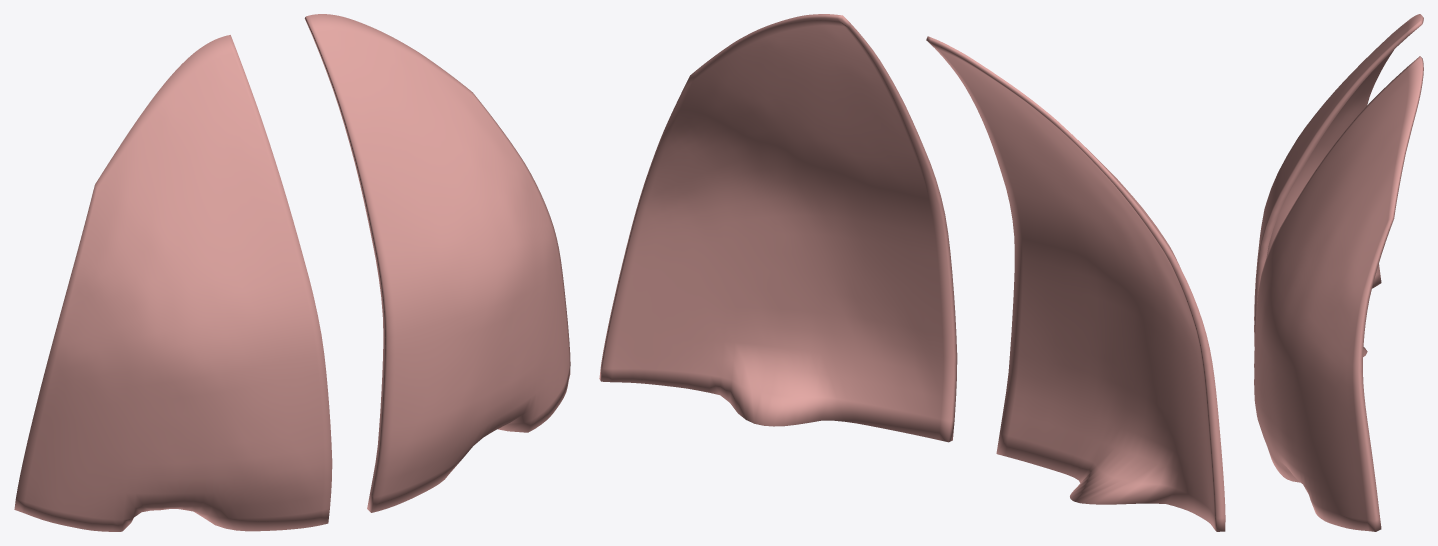
File: frontalis_lod1.glb
The picture shows the model from 3 angles, left to right: view 1: azimuth 30°, elevation 25°; view 2: azimuth 150°, elevation 25°; view 3: azimuth 270°, elevation 25°; orthographic projection. The views are drawn at different scales.
Parts seen in each view (by area): view 1: frontalis_R_lod1, frontalis_L_lod1; view 2: frontalis_L_lod1, frontalis_R_lod1; view 3: frontalis_L_lod1, frontalis_R_lod1.
Part boxes in pixels (bbox=[...]): frontalis_R_lod1: bbox=[14, 35, 332, 531]; frontalis_L_lod1: bbox=[304, 14, 570, 512]; frontalis_L_lod1: bbox=[599, 14, 957, 442]; frontalis_R_lod1: bbox=[926, 36, 1225, 531]; frontalis_L_lod1: bbox=[1254, 56, 1423, 531]; frontalis_R_lod1: bbox=[1254, 14, 1423, 356].
Bounding box in the file's own units: 0.0994 × 0.074 × 0.0285.
